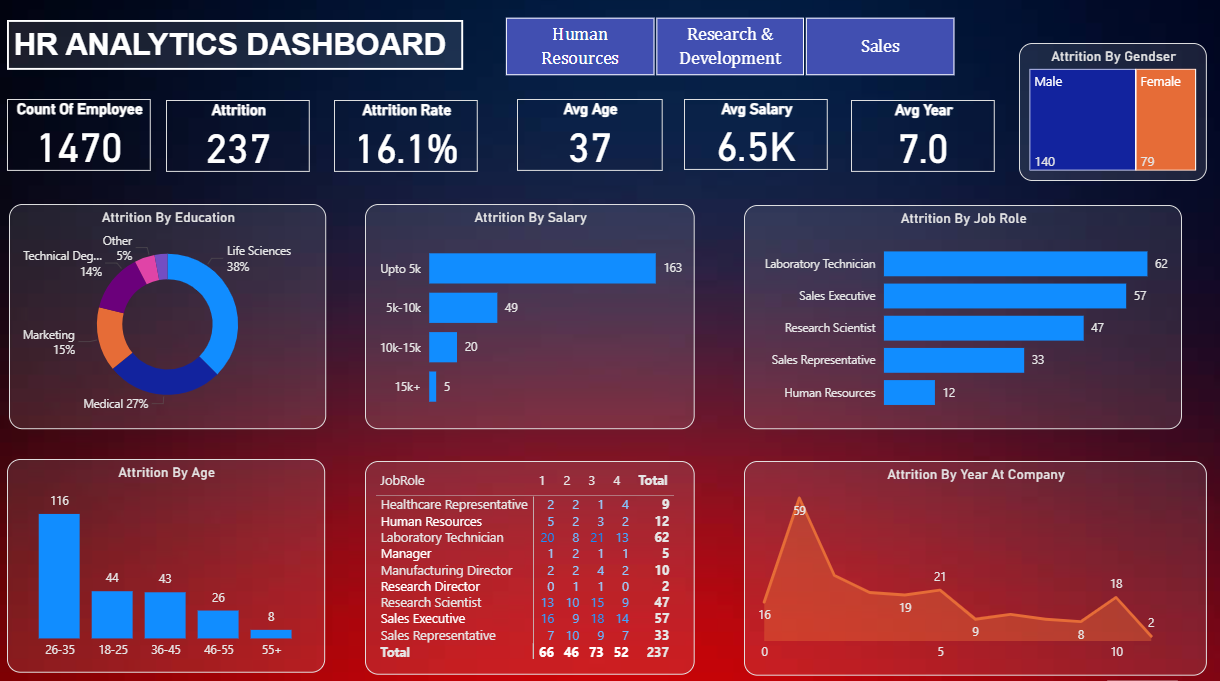

The dashboard page shown, as its layout file describes it:
{"tool":"powerbi","page":{"name":"Page 1","canvas":[1280,720],"ordinal":0},"visuals":[{"type":"card","title":"Count Of Employee","fields":{"Values":["Count(Table1.EmpID)"]},"box":[11.2,107.1,150.2,75.1],"z":0},{"type":"card","title":"Attrition","fields":{"Values":["Sum(Table1.AttritionCount)"]},"box":[177.4,108.7,150.2,75.1],"z":1000},{"type":"card","title":"Attrition Rate","fields":{"Values":["Table1.AttritionRate"]},"box":[353.2,108.7,150.2,75.1],"z":2000},{"type":"card","title":"Avg Age","fields":{"Values":["Avg(Table1.Age)"]},"box":[543.3,107.1,151.8,75.1],"z":3000},{"type":"card","title":"Avg Year","fields":{"Values":["Avg(Table1.YearsAtCompany)"]},"box":[891.7,108.7,150.2,75.1],"z":4000},{"type":"card","title":"Avg Salary","fields":{"Values":["Avg(Table1.MonthlyIncome)"]},"box":[717.5,107.1,150.2,73.5],"z":5000},{"type":"donutChart","title":"Attrition By Education","fields":{"Category":["Table1.EducationField"],"Y":["Sum(Table1.AttritionCount)"]},"box":[13.5,217.1,330.8,235.1],"z":6000},{"type":"columnChart","title":"Attrition By Age","fields":{"Category":["Table1.AgeGroup"],"Y":["Sum(Table1.AttritionCount)"]},"box":[11.9,483.5,331.6,223.2],"z":7000},{"type":"pivotTable","fields":{"Rows":["Table1.JobRole"],"Columns":["Table1.JobSatisfaction"],"Values":["Sum(Table1.AttritionCount)"]},"box":[384.8,484.9,344.2,222.8],"z":8000},{"type":"barChart","title":"Attrition By Salary","fields":{"Category":["Table1.SalarySlab"],"Y":["Sum(Table1.AttritionCount)"]},"box":[384.8,217.1,344.2,235.1],"z":9000},{"type":"barChart","title":"Attrition By Job Role","fields":{"Y":["Sum(Table1.AttritionCount)"],"Category":["Table1.JobRole"]},"box":[780.8,218.2,456.8,234],"z":10000},{"type":"areaChart","title":"Attrition By Year At Company","fields":{"Category":["Table1.YearsAtCompany"],"Y":["Sum(Table1.AttritionCount)"]},"box":[780.8,484.9,482.6,223.9],"z":11000},{"type":"treemap","title":"Attrition By Gendser","fields":{"Group":["Table1.Gender"],"Values":["Sum(Table1.AttritionCount)"]},"box":[1067.3,48.9,195.5,144],"z":12000},{"type":"slicer","fields":{"Values":["Table1.Department"]},"box":[505.9,15.9,517.8,70],"z":13000},{"type":"textbox","box":[11.9,25.1,475.5,51.5],"z":14000}]}

Visuals, with their boxes in screenshot pixels (x1, y1, x2, y2), scaled from the page's 1280x720 canvas onto the 1220x681 screenshot:
"Count Of Employee" card: x1=11, y1=101, x2=154, y2=172
"Attrition" card: x1=169, y1=103, x2=312, y2=174
"Attrition Rate" card: x1=337, y1=103, x2=480, y2=174
"Avg Age" card: x1=518, y1=101, x2=663, y2=172
"Avg Year" card: x1=850, y1=103, x2=993, y2=174
"Avg Salary" card: x1=684, y1=101, x2=827, y2=171
"Attrition By Education" donutChart: x1=13, y1=205, x2=328, y2=428
"Attrition By Age" columnChart: x1=11, y1=457, x2=327, y2=668
pivotTable - Table1.JobRole x Table1.JobSatisfaction: x1=367, y1=459, x2=695, y2=669
"Attrition By Salary" barChart: x1=367, y1=205, x2=695, y2=428
"Attrition By Job Role" barChart: x1=744, y1=206, x2=1180, y2=428
"Attrition By Year At Company" areaChart: x1=744, y1=459, x2=1204, y2=670
"Attrition By Gendser" treemap: x1=1017, y1=46, x2=1204, y2=182
slicer - Table1.Department: x1=482, y1=15, x2=976, y2=81
textbox: x1=11, y1=24, x2=465, y2=72
